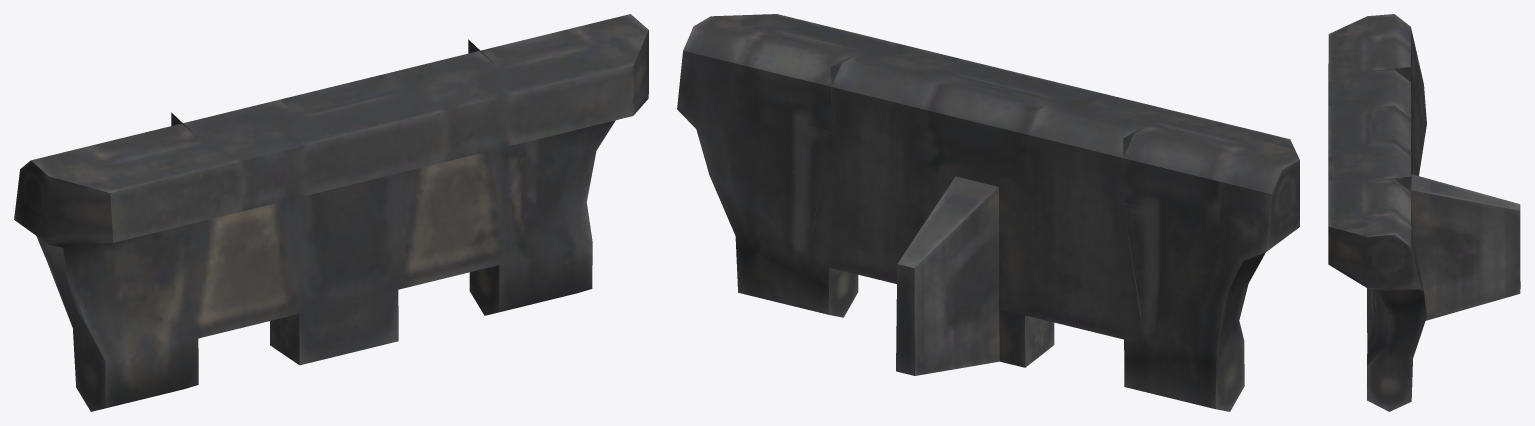
3 renders of one model, left to right at view 1: azimuth 30°, elevation 25°; view 2: azimuth 150°, elevation 25°; view 3: azimuth 270°, elevation 25°, orthographic. The views are drawn at different scales.
Parts seen in each view (by area): view 1: set_0_group_0; view 2: set_0_group_0; view 3: set_0_group_0.
Boxes of the visible parts, x1=… form: set_0_group_0: x1=14, y1=14, x2=648, y2=411; set_0_group_0: x1=677, y1=14, x2=1299, y2=411; set_0_group_0: x1=1328, y1=14, x2=1520, y2=411.
Size of the model in its own units: 0.3792 by 0.1608 by 0.1394.
Materials: 1 (1 with a texture image).
